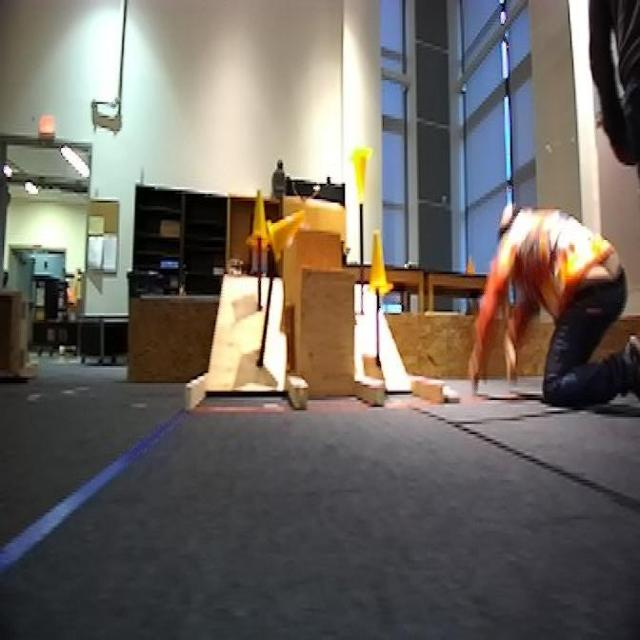frc_cone: (366, 227, 396, 300), (270, 209, 308, 262), (347, 140, 376, 204), (248, 192, 275, 250)
